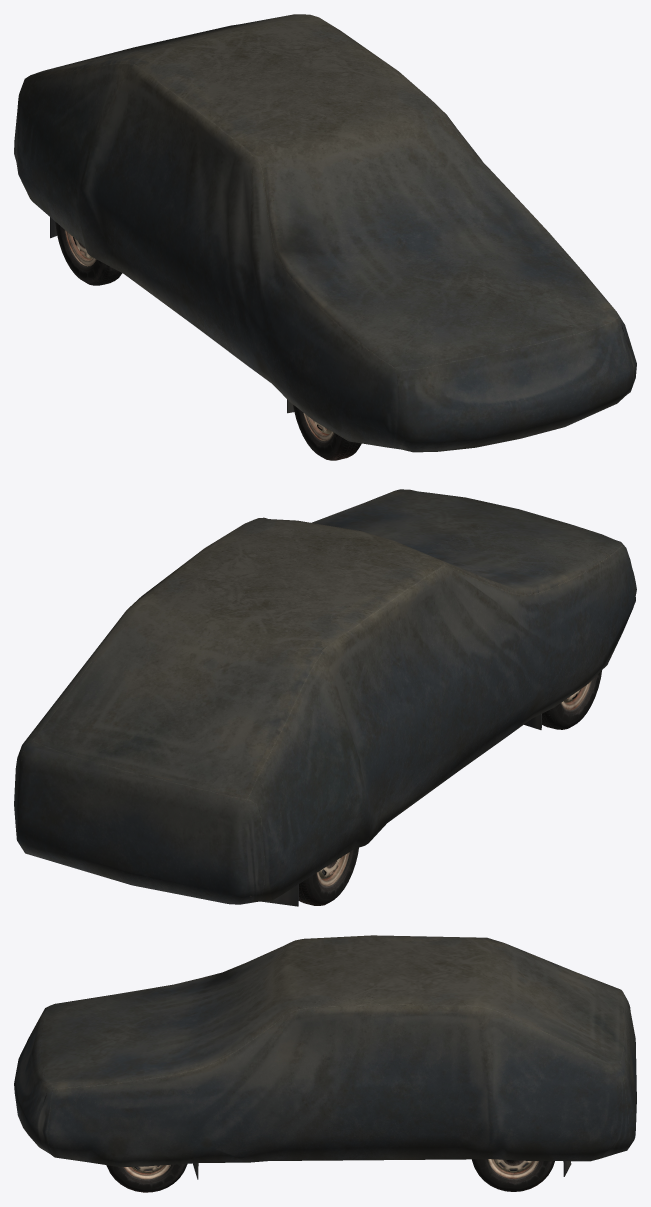
The model's file is covered_car.glb.
3 views of the same model, one above another, from view 1: azimuth 30°, elevation 25°; view 2: azimuth 150°, elevation 25°; view 3: azimuth 270°, elevation 25° (orthographic). The views are drawn at different scales.
Visible parts, largest first — view 1: covered_car, covered_car_wheel_03, covered_car_wheel_02; view 2: covered_car, covered_car_wheel_03, covered_car_wheel_02; view 3: covered_car, covered_car_wheel_04, covered_car_wheel_01.
Boxes of the visible parts, bbox=[...] form: covered_car: bbox=[14, 14, 636, 452]; covered_car_wheel_03: bbox=[55, 222, 122, 285]; covered_car_wheel_02: bbox=[293, 405, 361, 460]; covered_car: bbox=[14, 489, 636, 906]; covered_car_wheel_03: bbox=[298, 847, 358, 905]; covered_car_wheel_02: bbox=[542, 670, 601, 729]; covered_car: bbox=[14, 935, 636, 1179]; covered_car_wheel_04: bbox=[472, 1159, 554, 1191]; covered_car_wheel_01: bbox=[106, 1163, 187, 1192].
Size of the model in its own units: 1.79 by 1.41 by 4.38.
2 materials, 2 textured.
